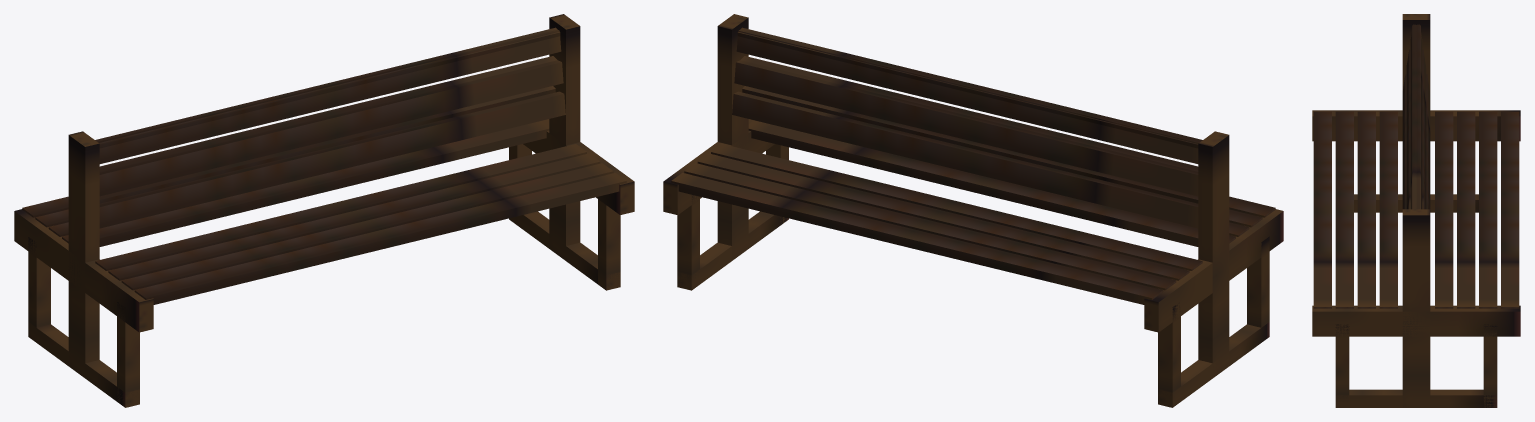
File: bench_hall.fbx
3 views of the same model, side by side, from view 1: azimuth 30°, elevation 25°; view 2: azimuth 150°, elevation 25°; view 3: azimuth 270°, elevation 25° (orthographic). The views are drawn at different scales.
Parts seen in each view (by area): view 1: bench_hall; view 2: bench_hall; view 3: bench_hall.
Part boxes in pixels (<box>): bench_hall: <box>14,14,634,407</box>; bench_hall: <box>663,14,1283,407</box>; bench_hall: <box>1312,14,1520,407</box>.
Size of the model in its own units: 2.06 by 0.92 by 0.9.
